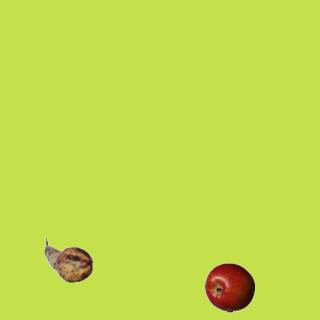Apple Braeburn: (204, 262, 254, 312)
Pear Abate: (43, 235, 93, 285)
